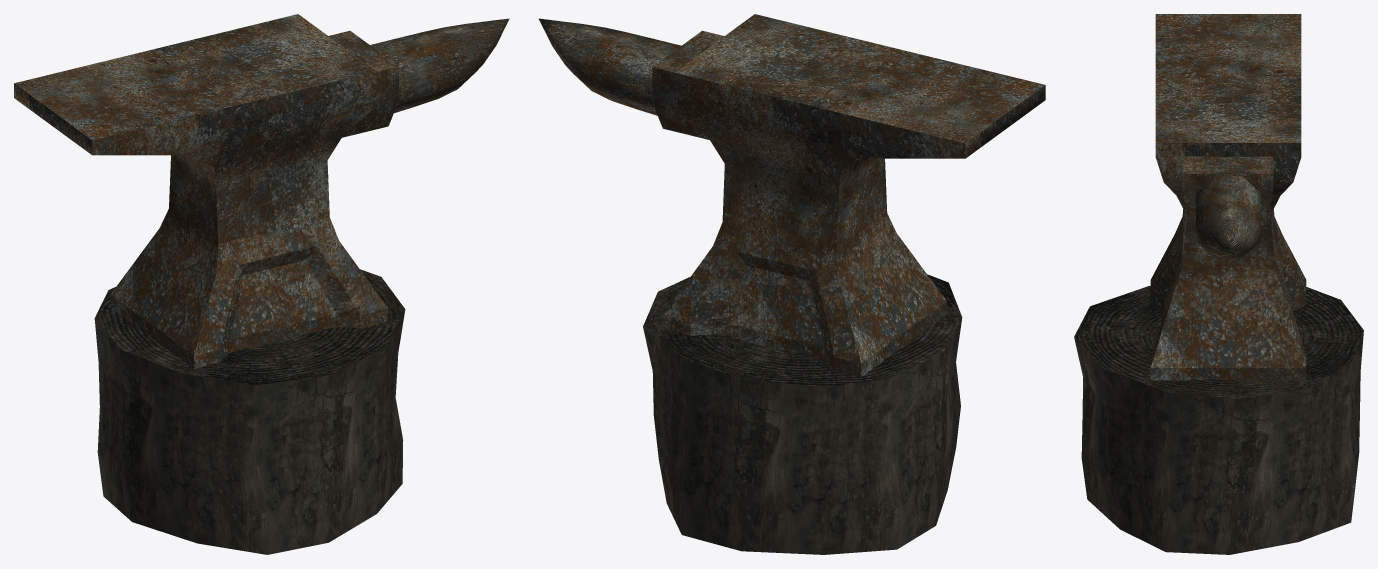
File: G3_Object_Interact_Anvil_01.obj
3 renders of one model, left to right at view 1: azimuth 30°, elevation 25°; view 2: azimuth 150°, elevation 25°; view 3: azimuth 270°, elevation 25°, orthographic. The views are drawn at different scales.
Parts seen in each view (by area): view 1: G3_Object_Interact_Anvil_01_0, G3_Object_Interact_Anvil_01_2, G3_Object_Interact_Anvil_01_1; view 2: G3_Object_Interact_Anvil_01_0, G3_Object_Interact_Anvil_01_2, G3_Object_Interact_Anvil_01_1; view 3: G3_Object_Interact_Anvil_01_0, G3_Object_Interact_Anvil_01_2, G3_Object_Interact_Anvil_01_1.
Boxes of the visible parts, <box> form: G3_Object_Interact_Anvil_01_0: <box>14,14,509,368</box>; G3_Object_Interact_Anvil_01_2: <box>94,310,405,554</box>; G3_Object_Interact_Anvil_01_1: <box>94,269,405,385</box>; G3_Object_Interact_Anvil_01_0: <box>538,14,1045,377</box>; G3_Object_Interact_Anvil_01_2: <box>643,318,961,554</box>; G3_Object_Interact_Anvil_01_1: <box>643,274,962,386</box>; G3_Object_Interact_Anvil_01_0: <box>1150,14,1306,380</box>; G3_Object_Interact_Anvil_01_2: <box>1074,331,1363,554</box>; G3_Object_Interact_Anvil_01_1: <box>1074,285,1363,398</box>.
Size of the model in its own units: 1.21 by 1.07 by 0.7146.
